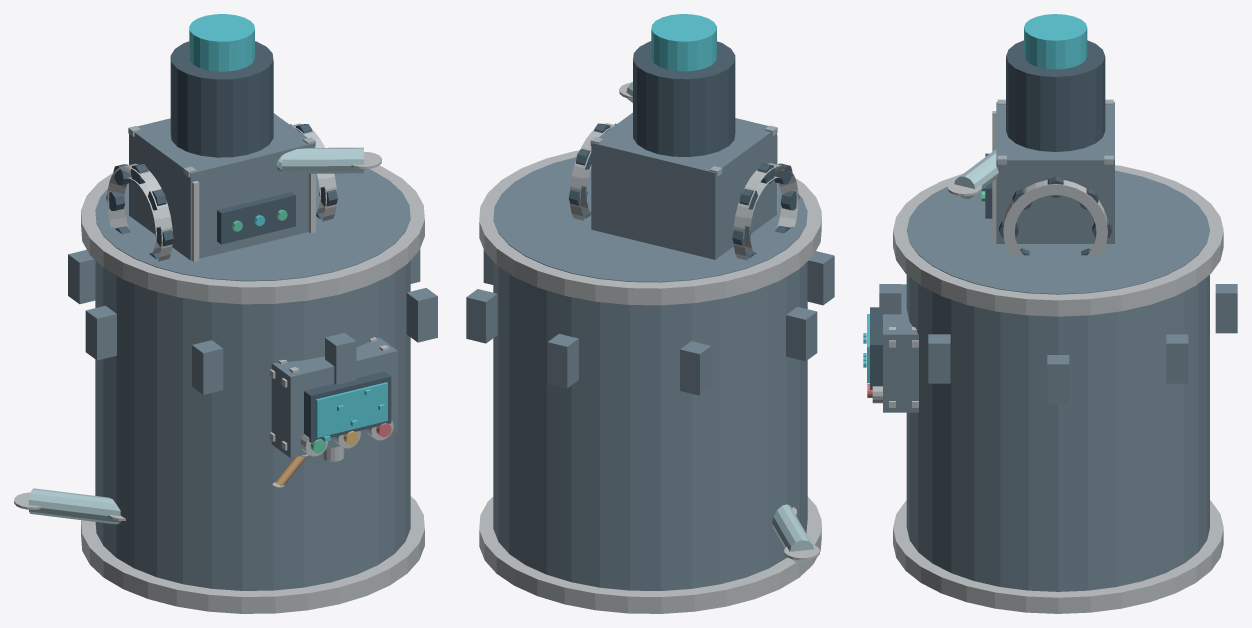
Rendered from 49_L77_UltrapureRinseWaterModule.glb.
3 views of the same model, side by side, from view 1: azimuth 30°, elevation 25°; view 2: azimuth 150°, elevation 25°; view 3: azimuth 270°, elevation 25° (orthographic). The views are drawn at different scales.
Parts seen in each view (by area): view 1: UltrapureRinseWaterModule_Node_0000, UltrapureRinseWaterModule_Node_0047, UltrapureRinseWaterModule_Node_0004, UltrapureRinseWaterModule_Node_0072, UltrapureRinseWaterModule_Node_0003, UltrapureRinseWaterModule_Node_0021, UltrapureRinseWaterModule_Node_0073, UltrapureRinseWaterModule_Node_0031, UltrapureRinseWaterModule_Node_0085, UltrapureRinseWaterModule_Node_0018, UltrapureRinseWaterModule_Node_0014, UltrapureRinseWaterModule_Node_0054 (+8 smaller); view 2: UltrapureRinseWaterModule_Node_0000, UltrapureRinseWaterModule_Node_0047, UltrapureRinseWaterModule_Node_0004, UltrapureRinseWaterModule_Node_0072, UltrapureRinseWaterModule_Node_0003, UltrapureRinseWaterModule_Node_0073, UltrapureRinseWaterModule_Node_0054, UltrapureRinseWaterModule_Node_0010, UltrapureRinseWaterModule_Node_0011, UltrapureRinseWaterModule_Node_0012, UltrapureRinseWaterModule_Node_0009, UltrapureRinseWaterModule_Node_0008 (+2 smaller); view 3: UltrapureRinseWaterModule_Node_0000, UltrapureRinseWaterModule_Node_0004, UltrapureRinseWaterModule_Node_0047, UltrapureRinseWaterModule_Node_0003, UltrapureRinseWaterModule_Node_0072, UltrapureRinseWaterModule_Node_0021, UltrapureRinseWaterModule_Node_0073, UltrapureRinseWaterModule_Node_0063, UltrapureRinseWaterModule_Node_0006, UltrapureRinseWaterModule_Node_0012, UltrapureRinseWaterModule_Node_0005, UltrapureRinseWaterModule_Node_0011 (+3 smaller).
Boxes of the visible parts, left/top/right/bottom form: UltrapureRinseWaterModule_Node_0000: left=95, top=169, right=410, bottom=590; UltrapureRinseWaterModule_Node_0047: left=129, top=113, right=314, bottom=260; UltrapureRinseWaterModule_Node_0004: left=81, top=165, right=424, bottom=304; UltrapureRinseWaterModule_Node_0072: left=170, top=41, right=273, bottom=157; UltrapureRinseWaterModule_Node_0003: left=81, top=496, right=424, bottom=613; UltrapureRinseWaterModule_Node_0021: left=271, top=337, right=397, bottom=458; UltrapureRinseWaterModule_Node_0073: left=189, top=14, right=254, bottom=71; UltrapureRinseWaterModule_Node_0031: left=315, top=382, right=387, bottom=437; UltrapureRinseWaterModule_Node_0085: left=217, top=192, right=295, bottom=244; UltrapureRinseWaterModule_Node_0018: left=28, top=488, right=120, bottom=524; UltrapureRinseWaterModule_Node_0014: left=282, top=147, right=363, bottom=173; UltrapureRinseWaterModule_Node_0054: left=107, top=163, right=172, bottom=261; UltrapureRinseWaterModule_Node_0000: left=493, top=157, right=807, bottom=590; UltrapureRinseWaterModule_Node_0047: left=591, top=112, right=776, bottom=259; UltrapureRinseWaterModule_Node_0004: left=479, top=150, right=821, bottom=305; UltrapureRinseWaterModule_Node_0072: left=633, top=41, right=735, bottom=156; UltrapureRinseWaterModule_Node_0003: left=479, top=496, right=821, bottom=613; UltrapureRinseWaterModule_Node_0073: left=651, top=14, right=716, bottom=71; UltrapureRinseWaterModule_Node_0054: left=733, top=163, right=798, bottom=260; UltrapureRinseWaterModule_Node_0010: left=680, top=341, right=711, bottom=395; UltrapureRinseWaterModule_Node_0011: left=547, top=333, right=578, bottom=388; UltrapureRinseWaterModule_Node_0012: left=466, top=289, right=497, bottom=343; UltrapureRinseWaterModule_Node_0009: left=786, top=306, right=817, bottom=361; UltrapureRinseWaterModule_Node_0008: left=807, top=251, right=834, bottom=305; UltrapureRinseWaterModule_Node_0000: left=906, top=170, right=1209, bottom=591; UltrapureRinseWaterModule_Node_0004: left=893, top=165, right=1223, bottom=316; UltrapureRinseWaterModule_Node_0047: left=996, top=102, right=1114, bottom=243; UltrapureRinseWaterModule_Node_0003: left=893, top=500, right=1223, bottom=613; UltrapureRinseWaterModule_Node_0072: left=1006, top=40, right=1105, bottom=151; UltrapureRinseWaterModule_Node_0021: left=883, top=284, right=918, bottom=412; UltrapureRinseWaterModule_Node_0073: left=1024, top=14, right=1087, bottom=69; UltrapureRinseWaterModule_Node_0063: left=1003, top=180, right=1107, bottom=255; UltrapureRinseWaterModule_Node_0006: left=928, top=334, right=950, bottom=383; UltrapureRinseWaterModule_Node_0012: left=1166, top=334, right=1188, bottom=383; UltrapureRinseWaterModule_Node_0005: left=1047, top=355, right=1069, bottom=404; UltrapureRinseWaterModule_Node_0011: left=1215, top=284, right=1237, bottom=333.
Size of the model in its own units: 1.46 by 2.01 by 1.36.
